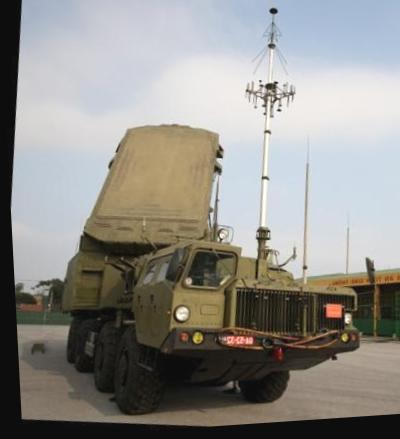License_Plate: (220, 331, 256, 352)
